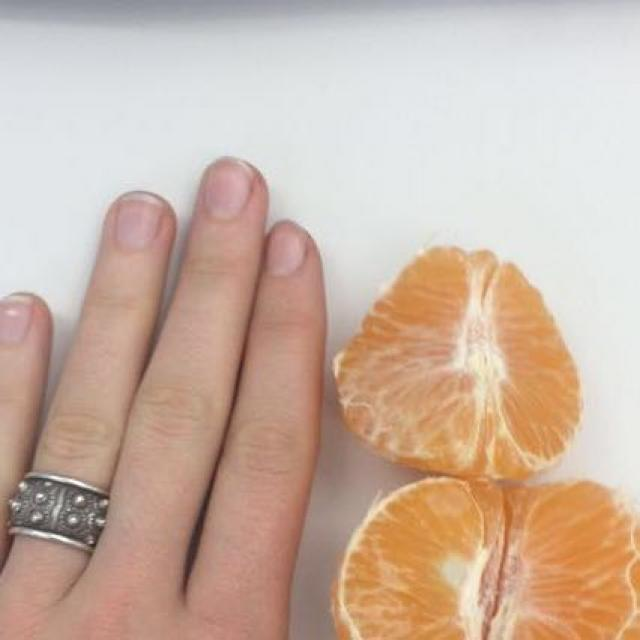mandarine: (340, 251, 639, 630)
